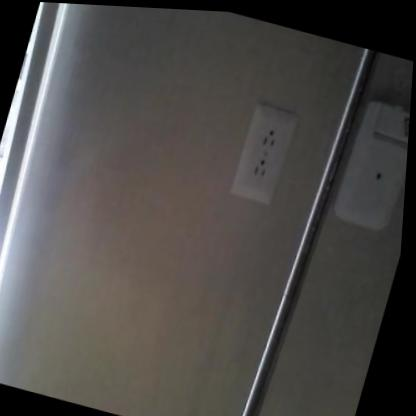OUTLET: (230, 101, 298, 206)
